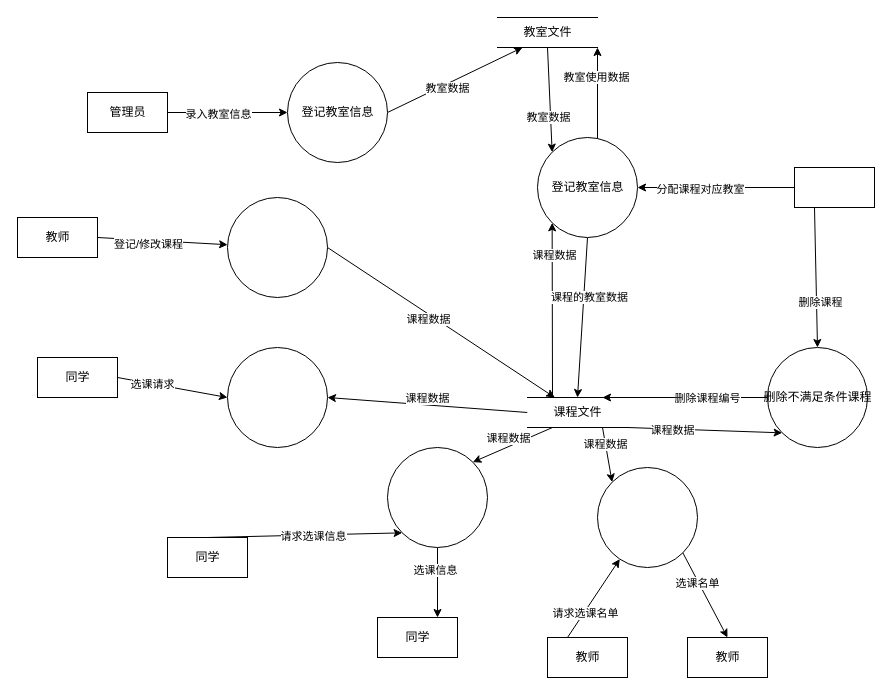
Some shapes in this 892 by 695 pixel diagram are drawn without their labels. The shapes that lost their labels are listed below. From the top down, each one's centre as x and y in pixels, then its label:
At pixel 834 187: "教务处".
At pixel 277 247: "登记课程信息".
At pixel 277 397: "处理选课请求".
At pixel 437 497: "处理课程数据".
At pixel 647 517: "处理选课名单".
